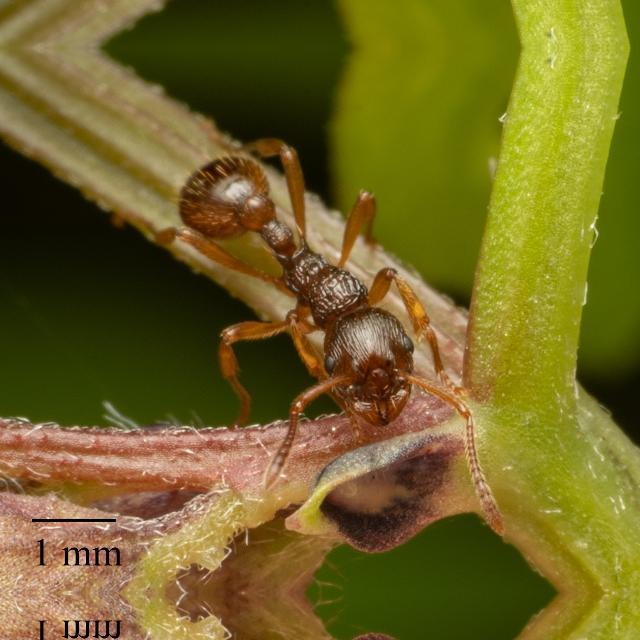Myrmica: (141, 111, 493, 456)
